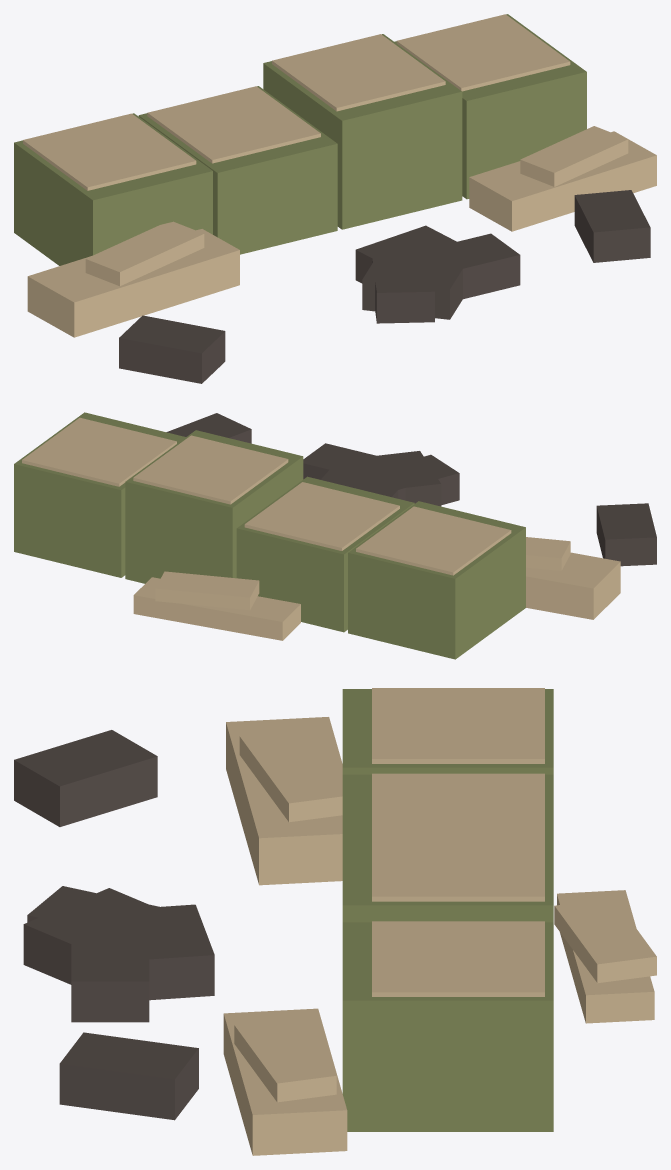
File: SM_HescoCorto4_v0_MallaLimpia_e2_MuyDanado_LOD1.fbx
3 views of the same model, one above another, from view 1: azimuth 30°, elevation 25°; view 2: azimuth 150°, elevation 25°; view 3: azimuth 270°, elevation 25° (orthographic). The views are drawn at different scales.
Visible parts, largest first — view 1: SM_hesco_piezas_v102_LOD1; view 2: SM_hesco_piezas_v102_LOD1; view 3: SM_hesco_piezas_v102_LOD1.
Part boxes in pixels (bbox=[...]): SM_hesco_piezas_v102_LOD1: bbox=[14, 14, 656, 383]; SM_hesco_piezas_v102_LOD1: bbox=[14, 412, 656, 659]; SM_hesco_piezas_v102_LOD1: bbox=[14, 688, 656, 1155].
Bounding box in the file's own units: 5.36 × 0.9578 × 3.71.
